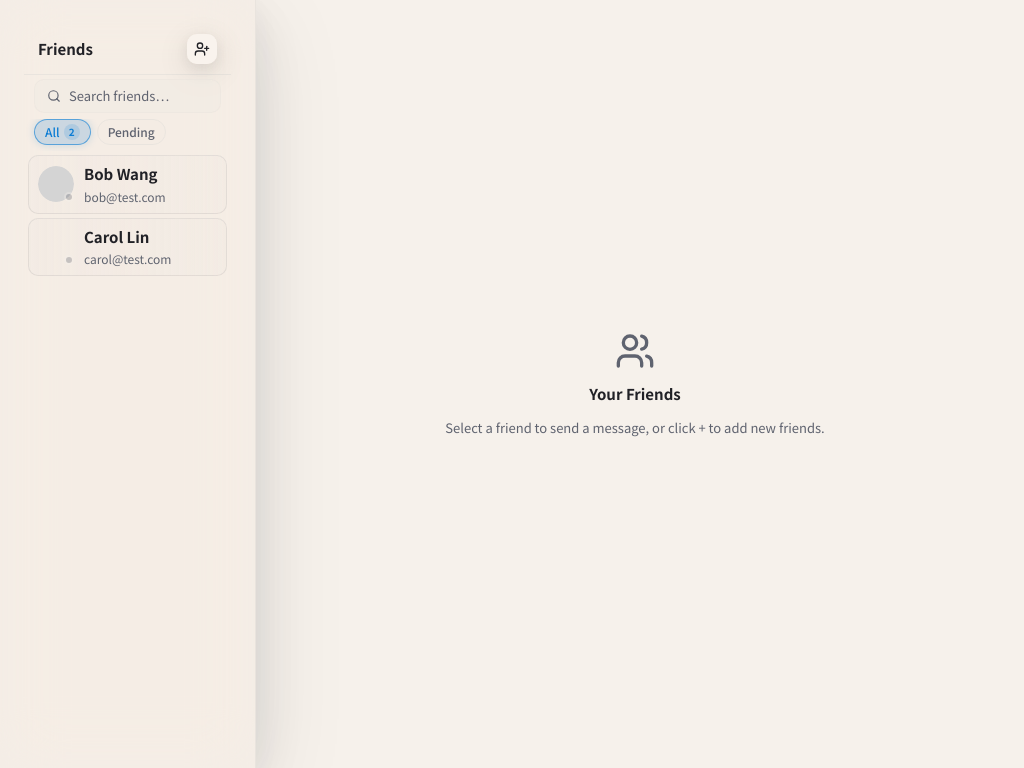
TC-F-NEW-10: Pending tab switch clears sidebar search › resets sidebar search value to empty when Pending chip is clicked
The width and height of the screenshot is (1024, 768).
# Type "Bob" — Carol disappears from the filtered list
Type "Bob" into the search field with placeholder "Search friends…" at (138, 96), box [69,86,208,106]
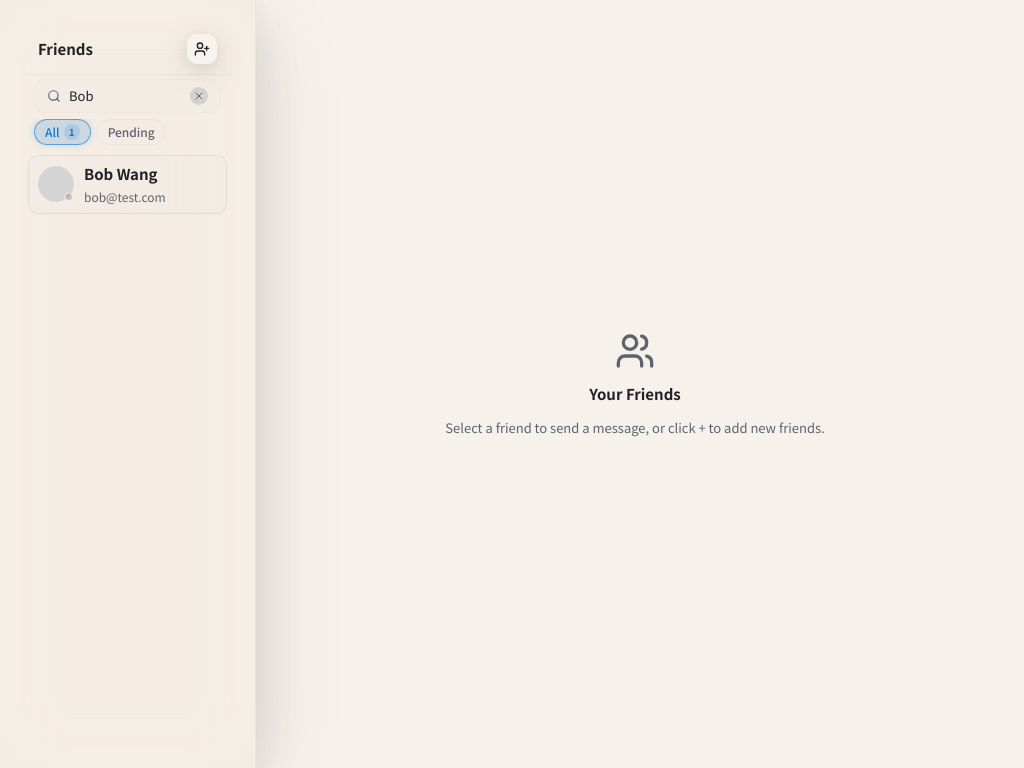
Expected: the text "Bob Wang" is shown, [84,163,158,184]
Expected: the button "Carol Lin" is gone
Click the button "Pending" at (131, 132), box [97,119,166,145]
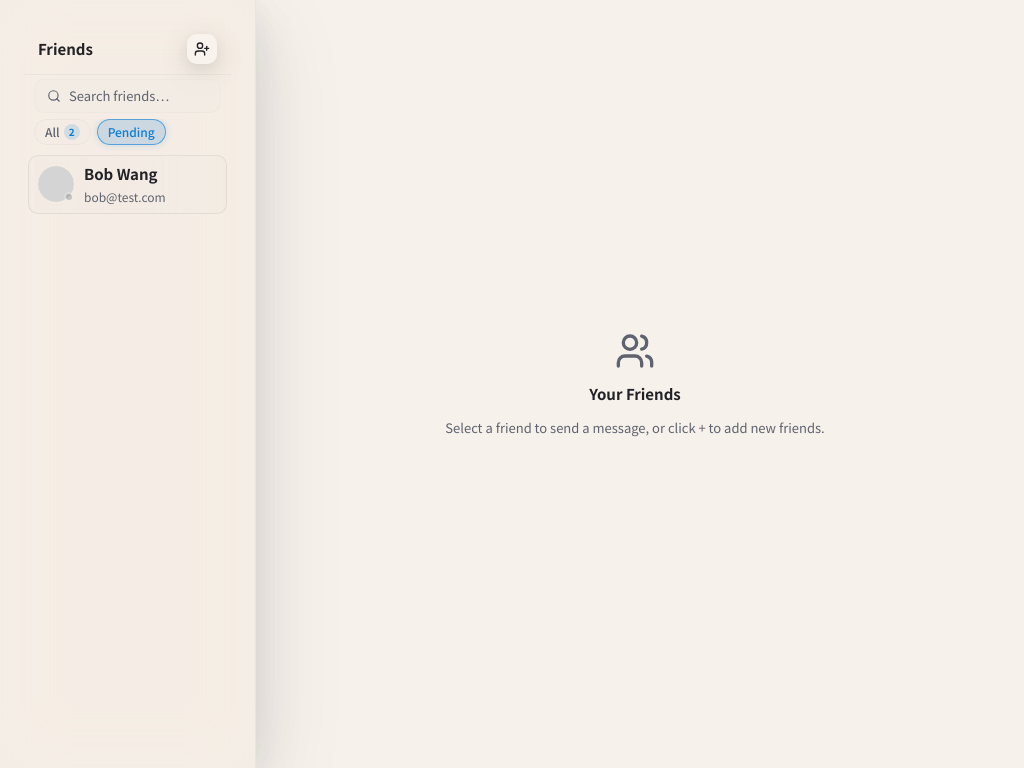
Click the button "All 2" at (62, 132), box [34,119,91,145]
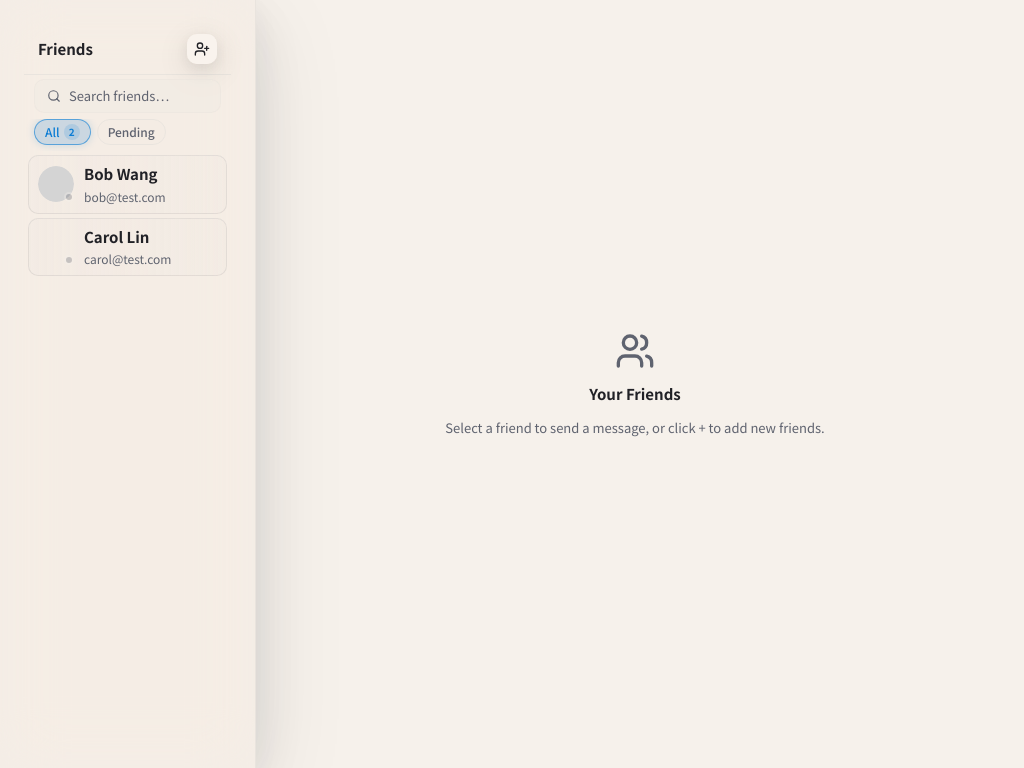
Expected: the text "Bob Wang" is shown, [84,163,158,184]
Expected: the text "Carol Lin" is shown, [84,226,149,246]
